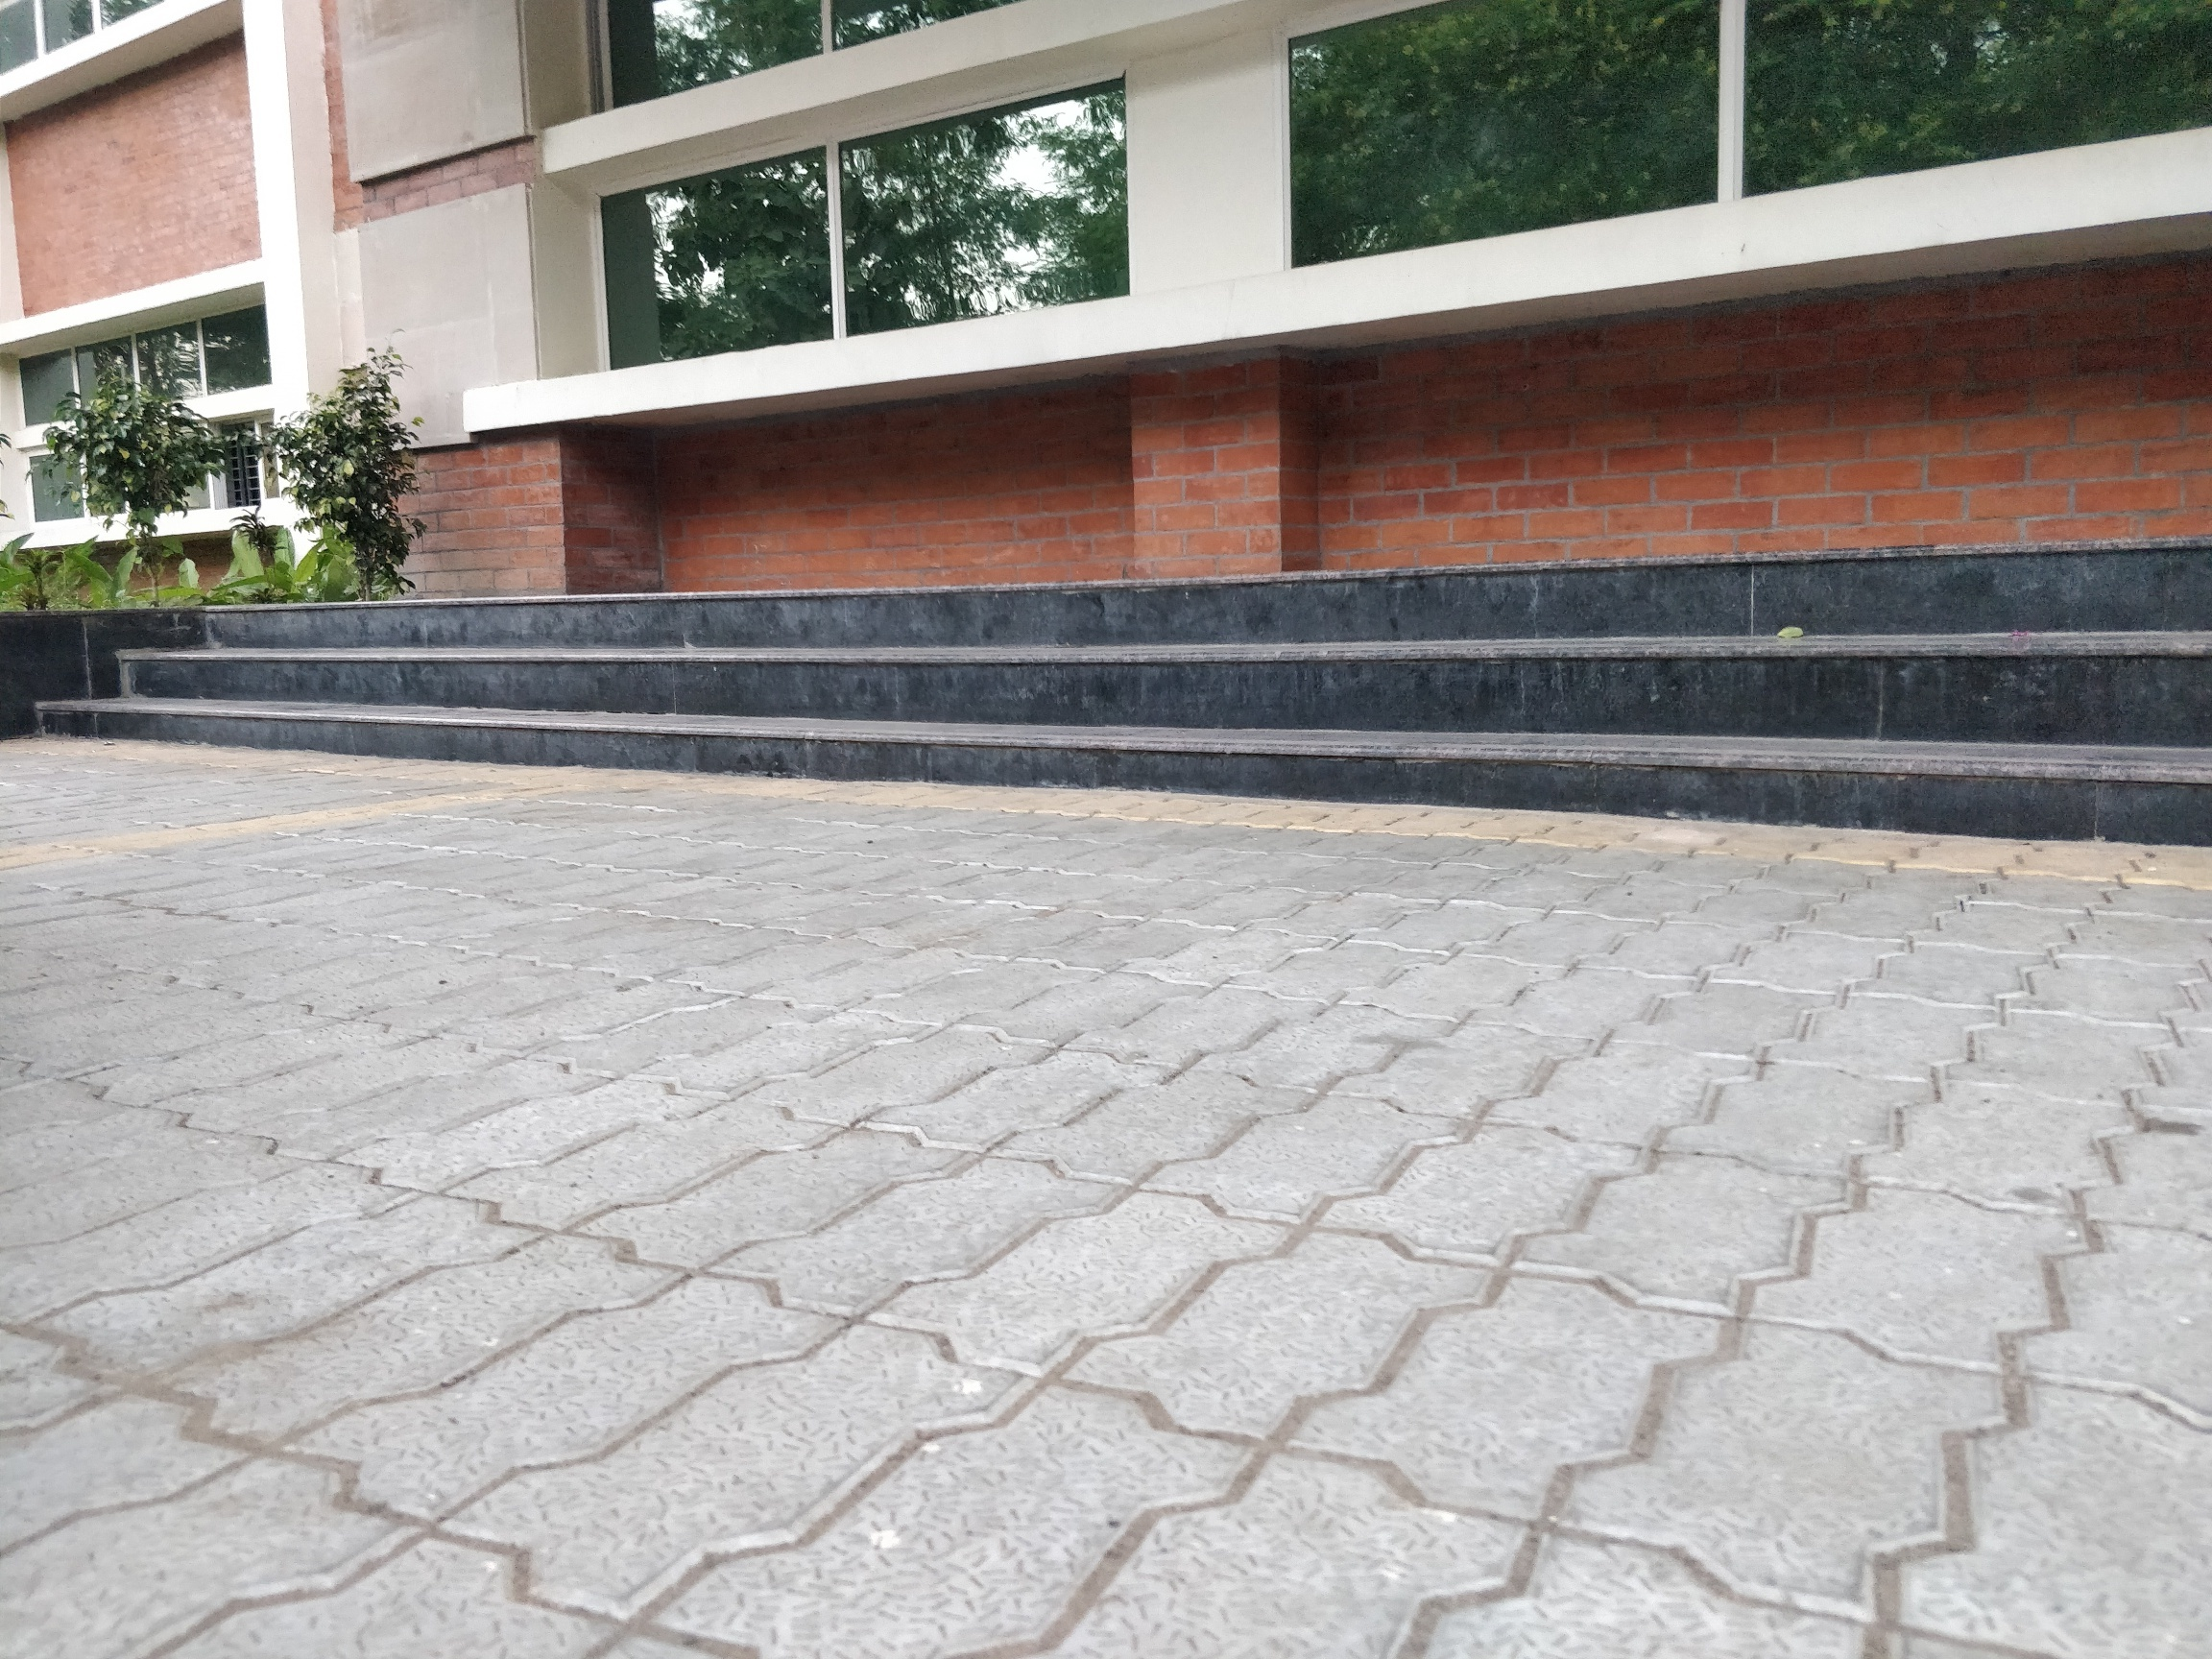stairs_up: (37, 565, 2205, 864)
